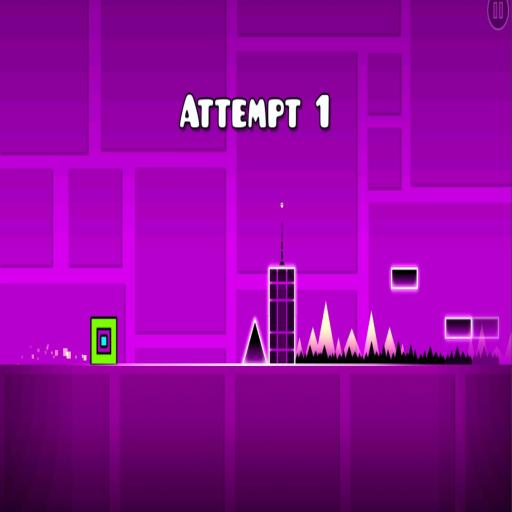block: (265, 265, 298, 369), (444, 314, 500, 344), (388, 265, 422, 292)
player: (90, 317, 117, 364)
spike: (243, 317, 266, 363), (318, 302, 334, 354), (365, 311, 379, 355), (344, 330, 360, 356), (383, 328, 396, 356), (305, 328, 317, 355), (477, 326, 486, 355), (506, 333, 512, 359), (493, 347, 502, 361), (335, 338, 341, 357), (468, 340, 474, 358), (297, 338, 302, 357), (401, 346, 404, 354)
